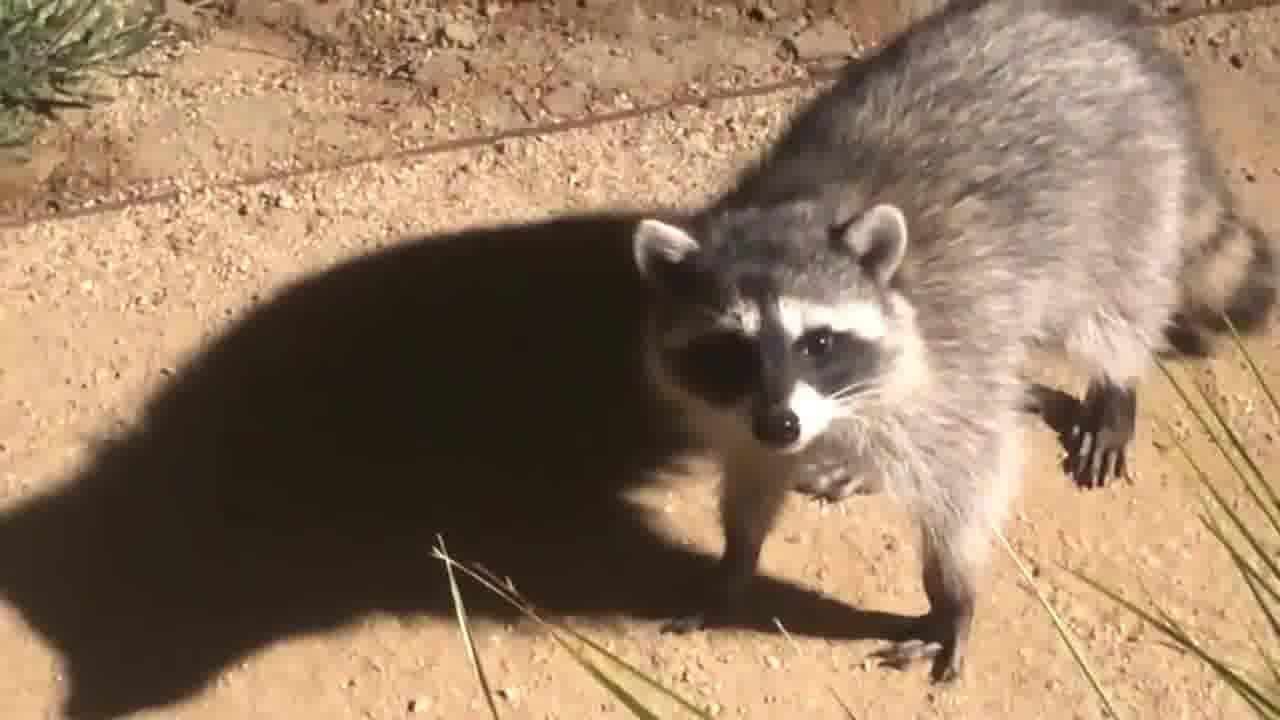raccoon: (599, 0, 1280, 699)
